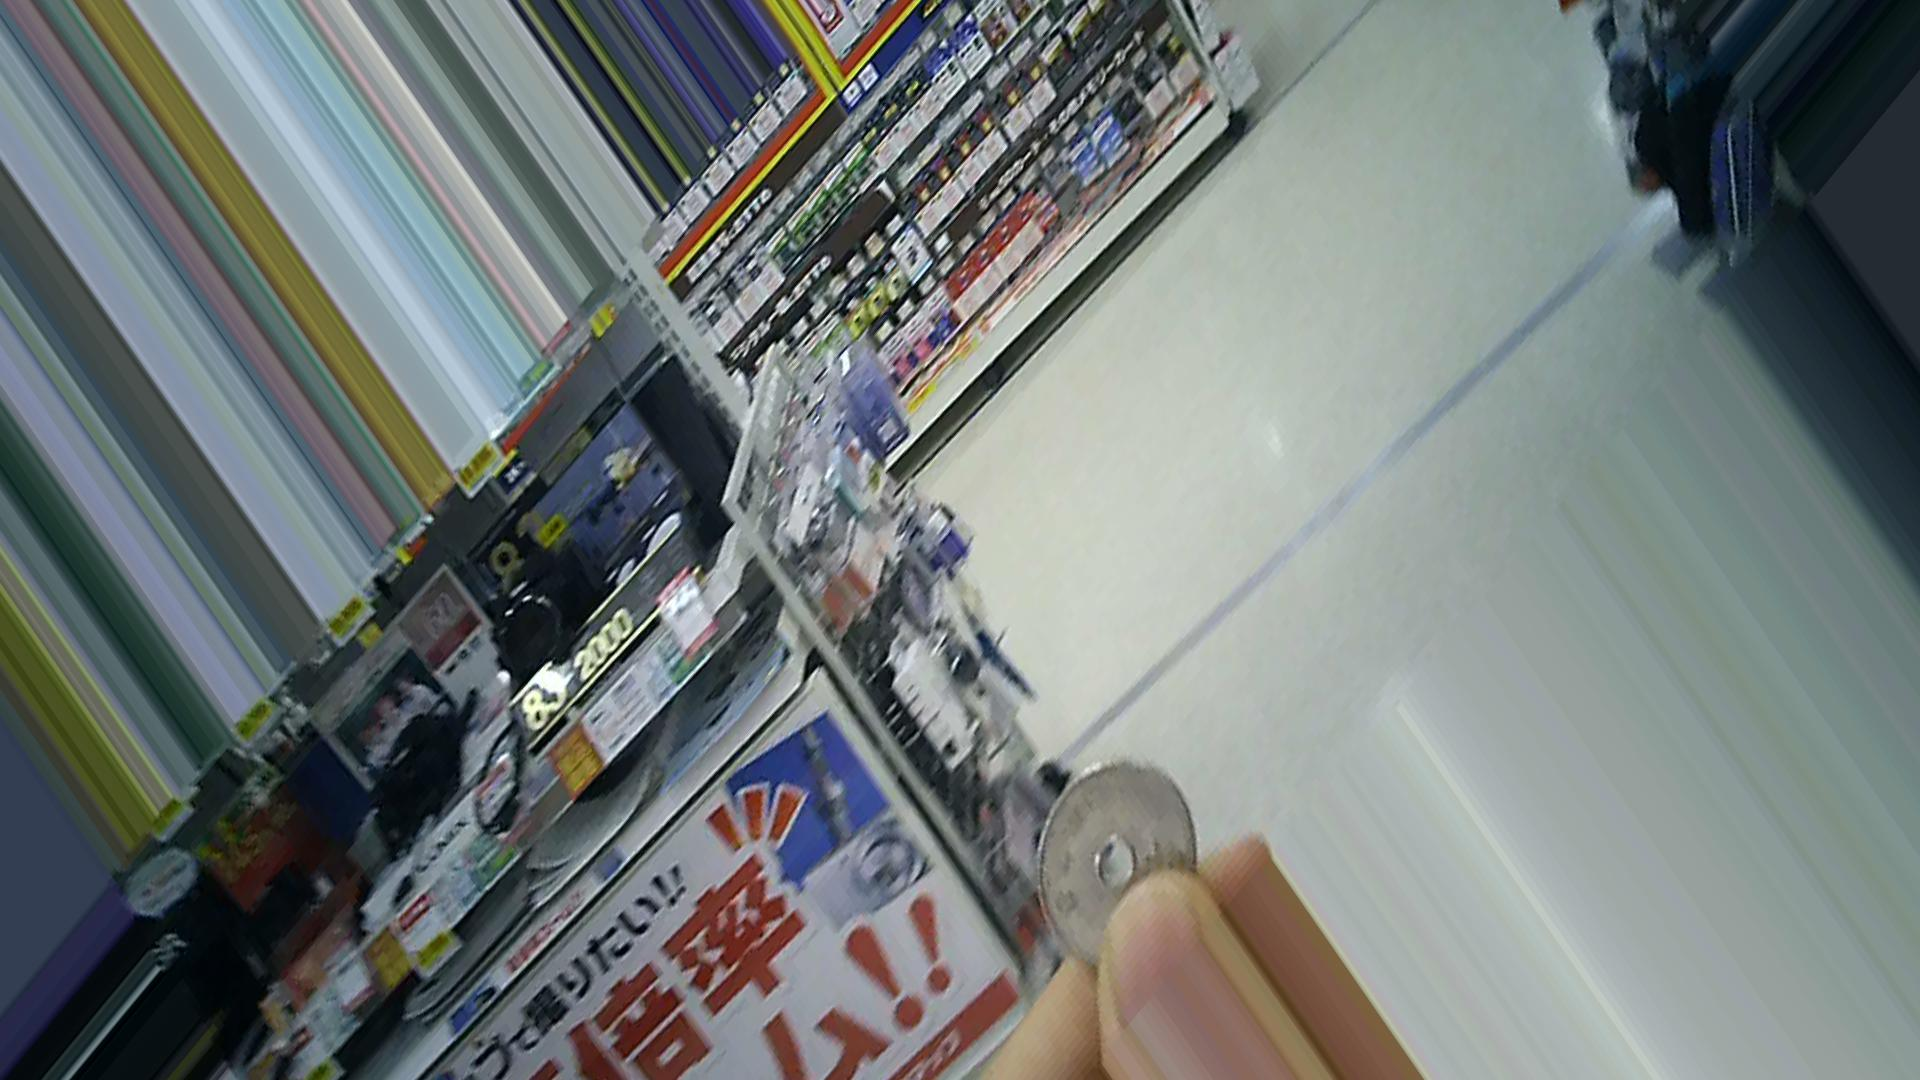50 Yen: (1040, 765, 1189, 960)
